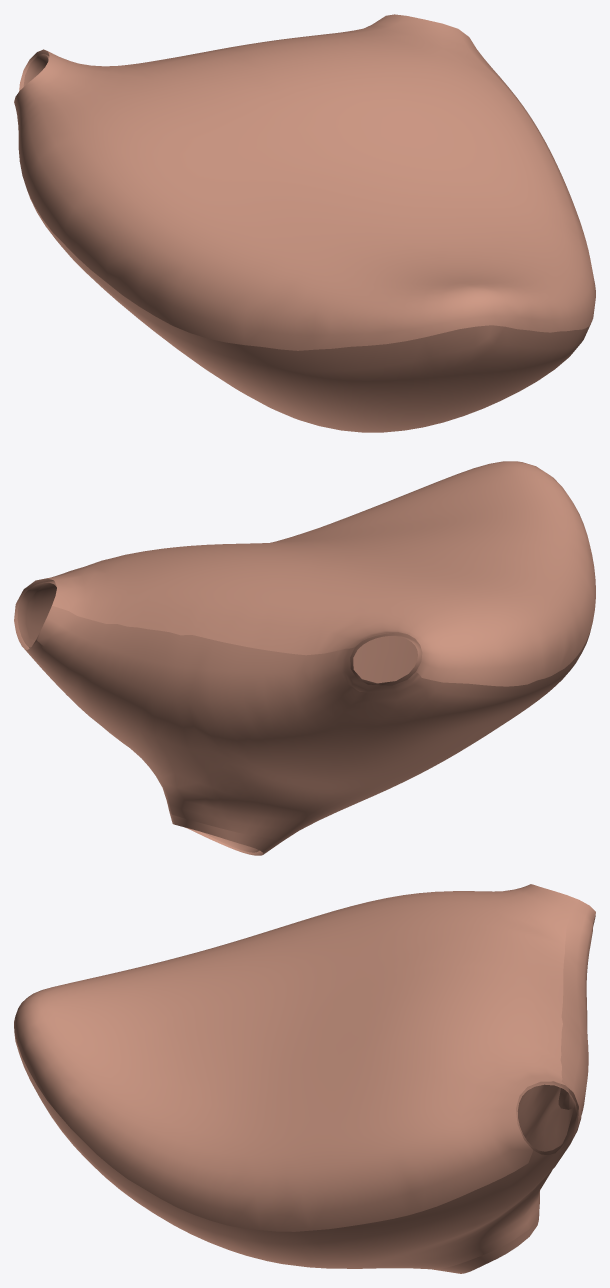
Rendered from explorar-urinary_bladder.glb.
The picture shows the model from 3 angles, top to bottom: view 1: azimuth 30°, elevation 25°; view 2: azimuth 150°, elevation 25°; view 3: azimuth 270°, elevation 25°; orthographic projection. The views are drawn at different scales.
Visible parts, largest first — view 1: urinary_bladder__cupula, urinary_bladder__base_vesical; view 2: urinary_bladder__cupula, urinary_bladder__base_vesical, urinary_bladder__cuello, urinary_bladder__orificio_ureteral_derecho, urinary_bladder__orificio_ureteral_izquierdo; view 3: urinary_bladder__cupula, urinary_bladder__base_vesical, urinary_bladder__trigono, urinary_bladder__cuello, urinary_bladder__orificio_ureteral_izquierdo.
Boxes of the visible parts, x1,y1,x2,y2 form: urinary_bladder__cupula: [14, 14, 595, 350]; urinary_bladder__base_vesical: [19, 49, 590, 432]; urinary_bladder__cupula: [14, 461, 595, 686]; urinary_bladder__base_vesical: [14, 605, 591, 842]; urinary_bladder__cuello: [169, 813, 280, 855]; urinary_bladder__orificio_ureteral_derecho: [350, 633, 422, 685]; urinary_bladder__orificio_ureteral_izquierdo: [17, 581, 56, 648]; urinary_bladder__cupula: [14, 884, 578, 1231]; urinary_bladder__base_vesical: [14, 900, 595, 1269]; urinary_bladder__trigono: [517, 1084, 573, 1151]; urinary_bladder__cuello: [432, 1212, 539, 1273]; urinary_bladder__orificio_ureteral_izquierdo: [516, 1081, 577, 1154].
Bounding box in the file's own units: 0.0638 × 0.0399 × 0.0723.
